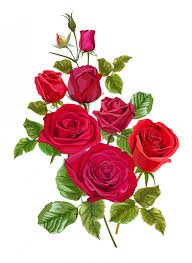lale: (55, 139, 148, 211), (35, 101, 107, 161), (128, 116, 179, 172), (28, 64, 69, 110), (67, 61, 101, 105), (76, 25, 99, 60), (49, 33, 68, 52)
